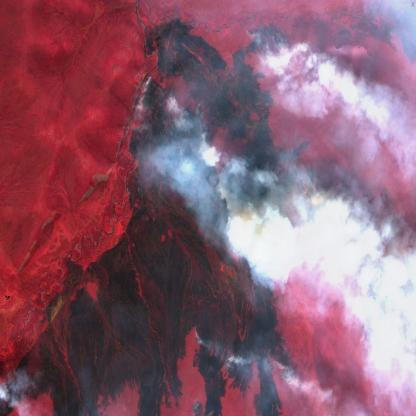fire: (138, 13, 333, 255)
